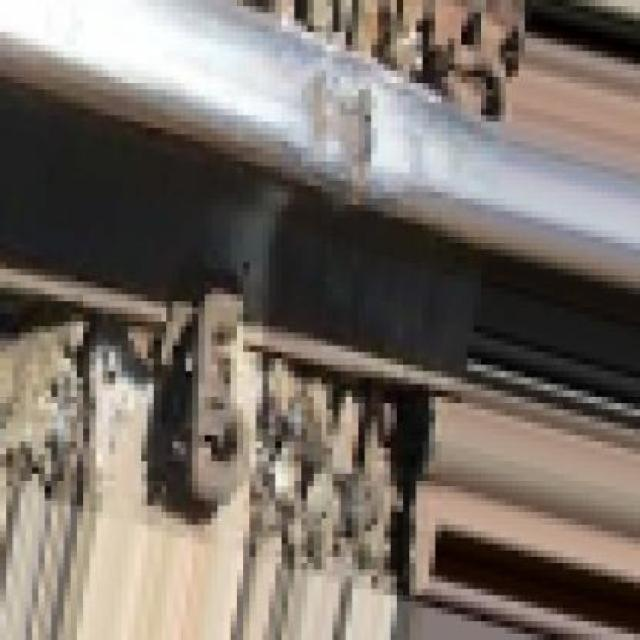non-defective: (134, 0, 564, 437)
